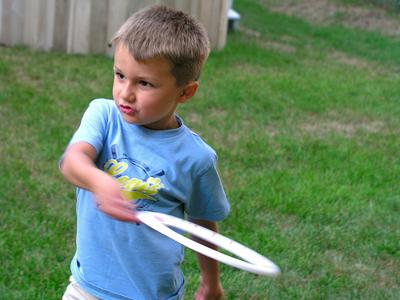person: (57, 7, 229, 300)
